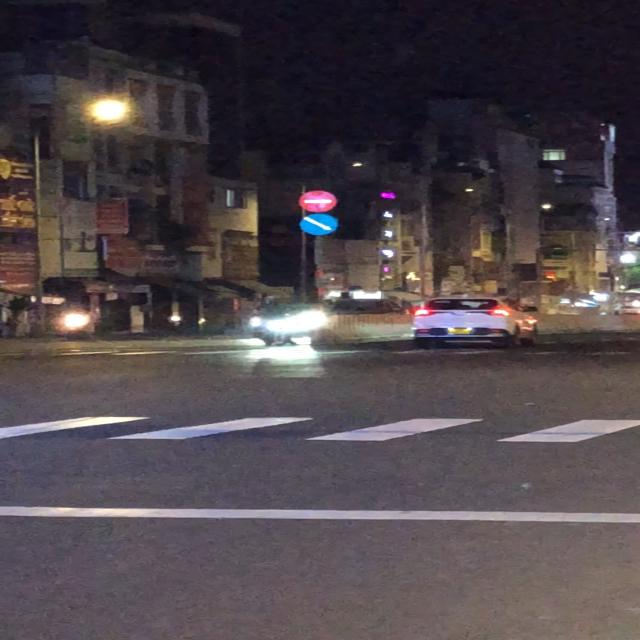Bien bao cam di nguoc chieu: (297, 189, 338, 212)
Bien bao huong phai di vong chuong ngai vat: (300, 213, 340, 237)
